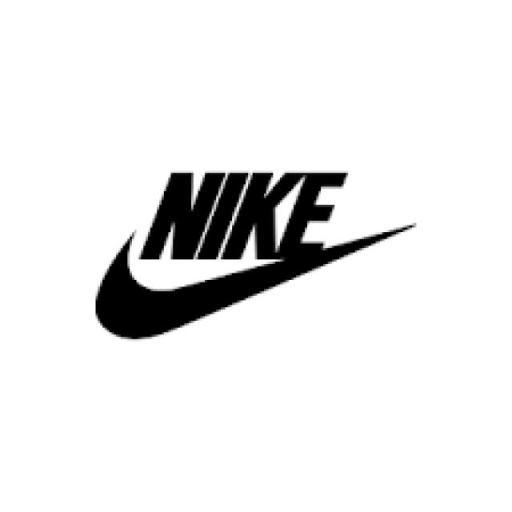Nike: (96, 241, 364, 341), (141, 168, 353, 264)
